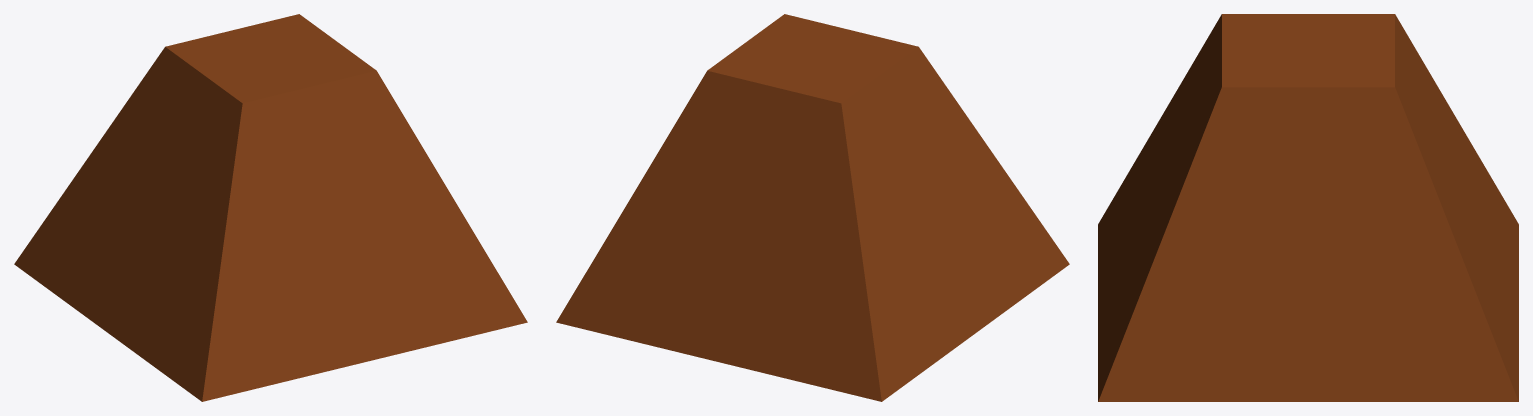
The model's file is barrier.fbx.
3 renders of one model, left to right at view 1: azimuth 30°, elevation 25°; view 2: azimuth 150°, elevation 25°; view 3: azimuth 270°, elevation 25°, orthographic. The views are drawn at different scales.
Parts seen in each view (by area): view 1: Cube; view 2: Cube; view 3: Cube.
Part boxes in pixels (box(x1,y1,x2,y2)): Cube: box(14, 14, 527, 401); Cube: box(556, 14, 1069, 401); Cube: box(1098, 14, 1518, 401).
Size of the model in its own units: 1.15 by 0.7914 by 1.15.
